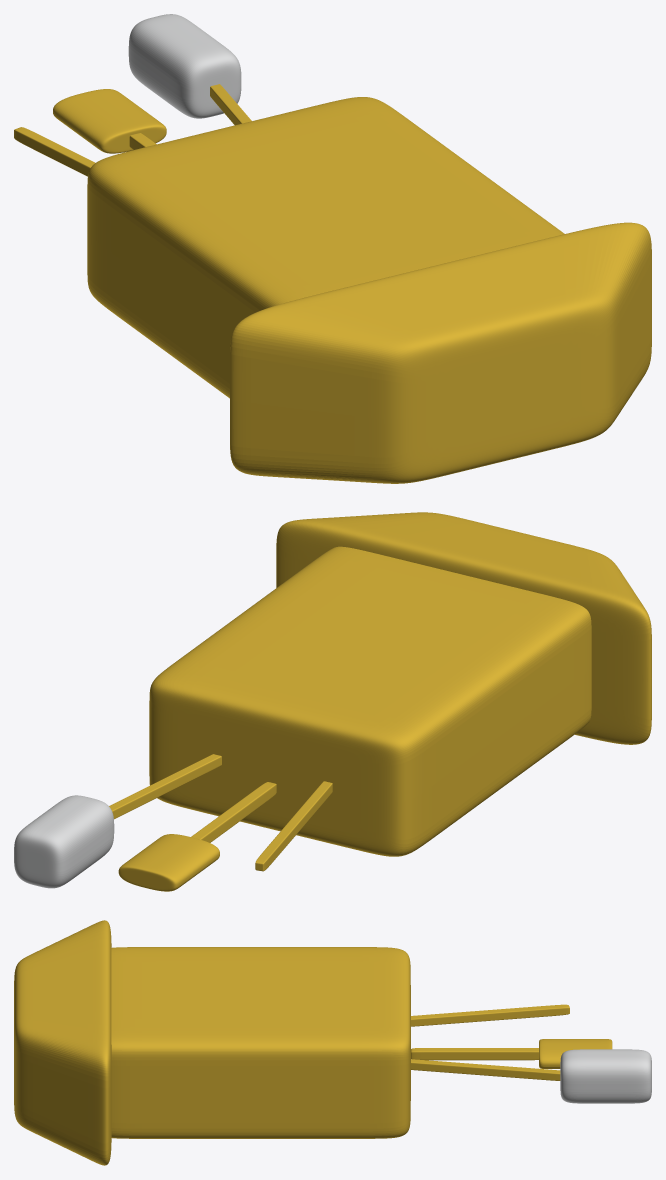
The model's file is cuckoo_clock_sq.glb.
The picture shows the model from 3 angles, top to bottom: view 1: azimuth 30°, elevation 25°; view 2: azimuth 150°, elevation 25°; view 3: azimuth 270°, elevation 25°; orthographic projection. The views are drawn at different scales.
Parts seen in each view (by area): view 1: superquadric_1, superquadric_0, superquadric_9, superquadric_6, superquadric_7, superquadric_8; view 2: superquadric_0, superquadric_1, superquadric_9, superquadric_6, superquadric_8, superquadric_7, superquadric_5; view 3: superquadric_0, superquadric_1, superquadric_9, superquadric_7, superquadric_8, superquadric_5, superquadric_6.
Boxes of the visible parts, x1=… form: superquadric_1: x1=230, y1=222, x2=651, y2=483; superquadric_0: x1=87, y1=97, x2=564, y2=398; superquadric_9: x1=128, y1=14, x2=241, y2=118; superquadric_6: x1=53, y1=89, x2=166, y2=153; superquadric_7: x1=14, y1=127, x2=95, y2=176; superquadric_8: x1=210, y1=84, x2=251, y2=125; superquadric_0: x1=149, y1=546, x2=591, y2=856; superquadric_1: x1=276, y1=512, x2=651, y2=744; superquadric_9: x1=14, y1=795, x2=114, y2=888; superquadric_6: x1=118, y1=834, x2=219, y2=891; superquadric_8: x1=109, y1=754, x2=221, y2=819; superquadric_7: x1=255, y1=781, x2=332, y2=871; superquadric_5: x1=191, y1=782, x2=276, y2=842; superquadric_0: x1=111, y1=947, x2=410, y2=1138; superquadric_1: x1=14, y1=920, x2=111, y2=1165; superquadric_9: x1=560, y1=1049, x2=651, y2=1103; superquadric_7: x1=411, y1=1004, x2=569, y2=1026; superquadric_8: x1=411, y1=1059, x2=560, y2=1080; superquadric_5: x1=411, y1=1048, x2=538, y2=1060; superquadric_6: x1=539, y1=1039, x2=612, y2=1068.
Size of the model in its own units: 0.5409 by 0.2559 by 1.
